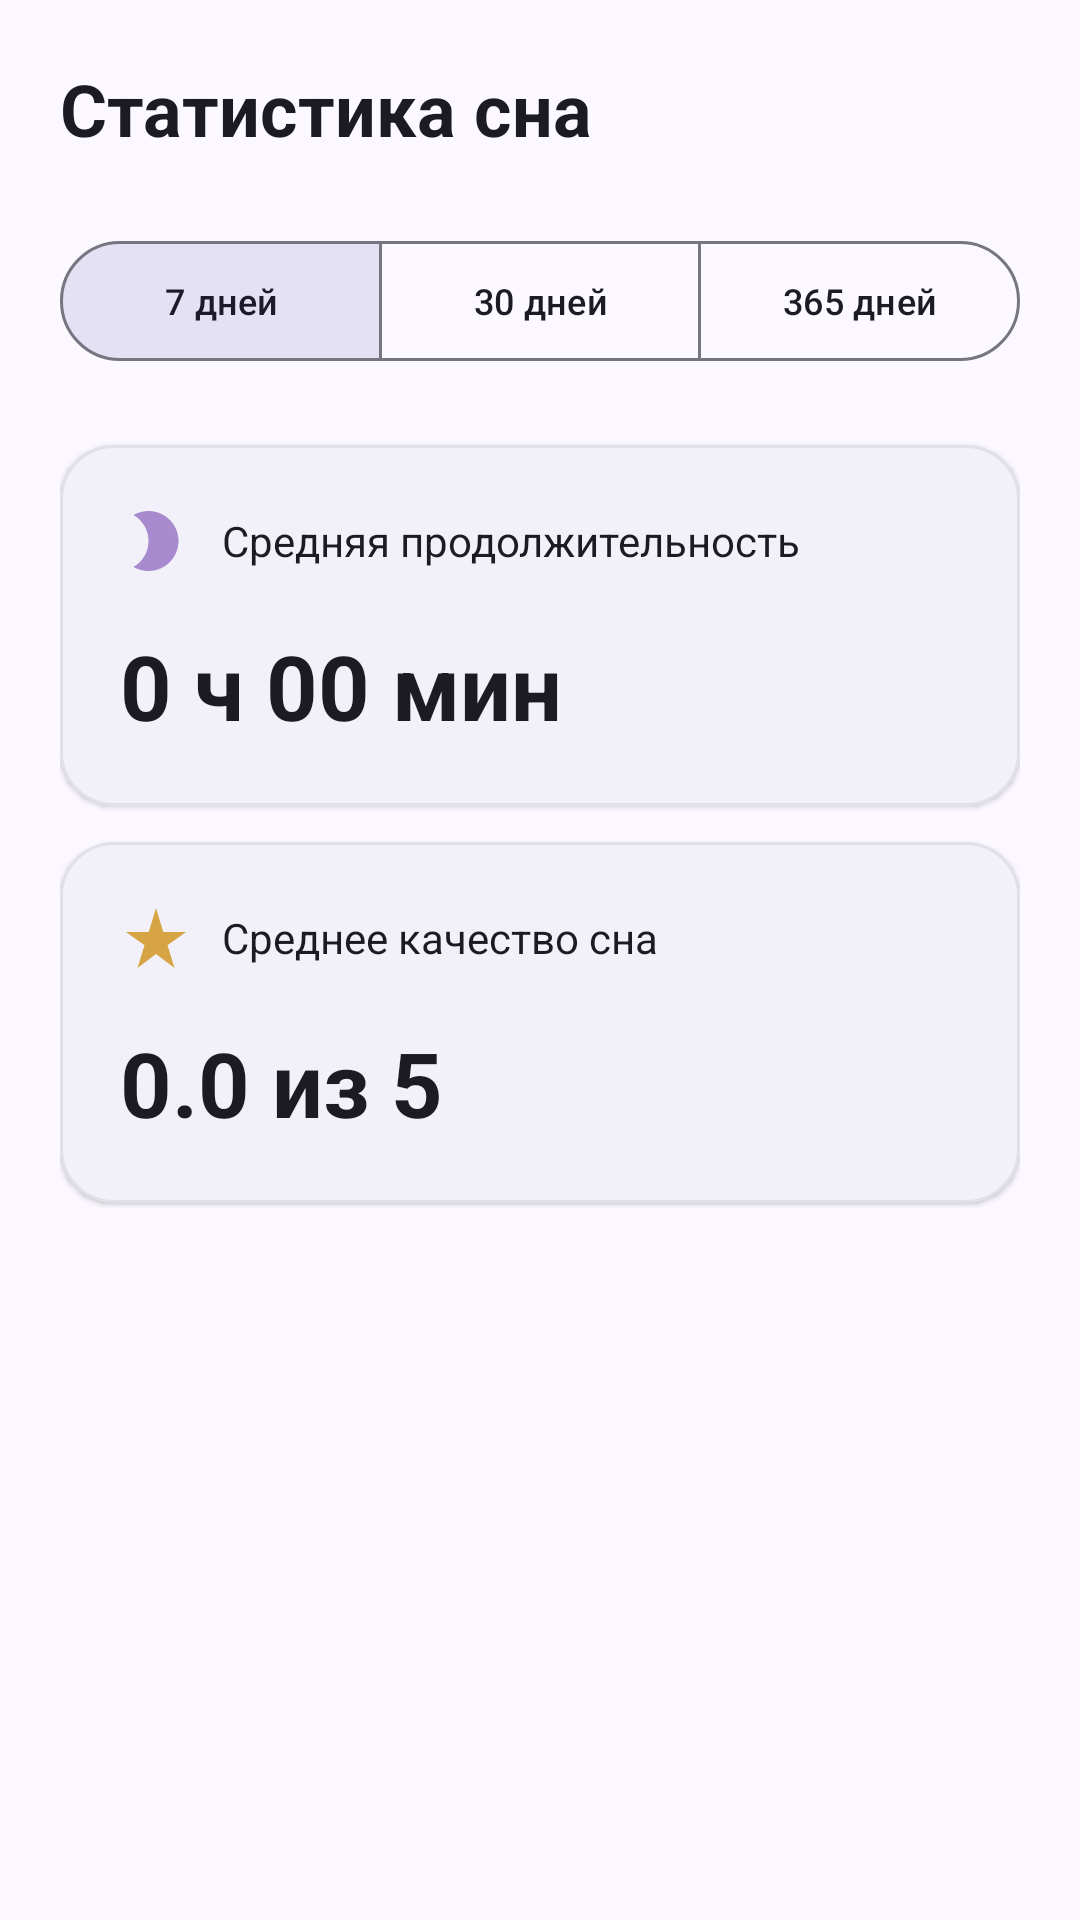

Where icons sit on this 1080w x 1920h app screen, as rect(x1, y1, x2, y2):
moon: rect(134, 511, 179, 571)
star rate: rect(126, 908, 186, 968)
